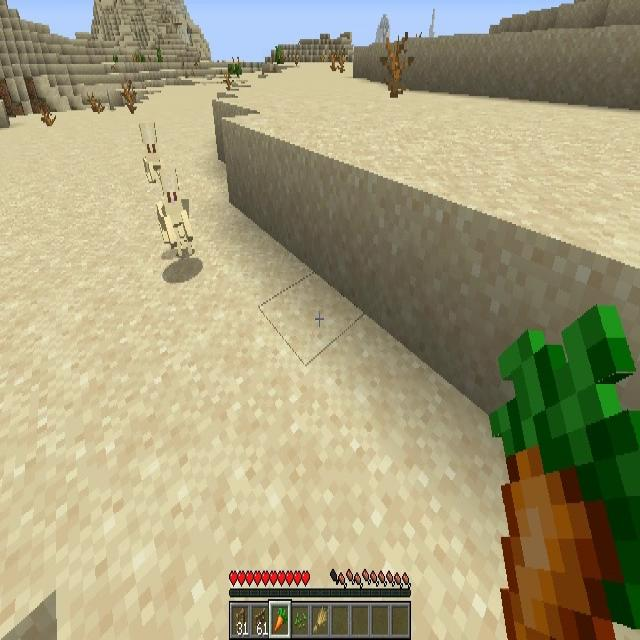rabbit: (158, 174, 193, 261), (141, 122, 163, 185)
